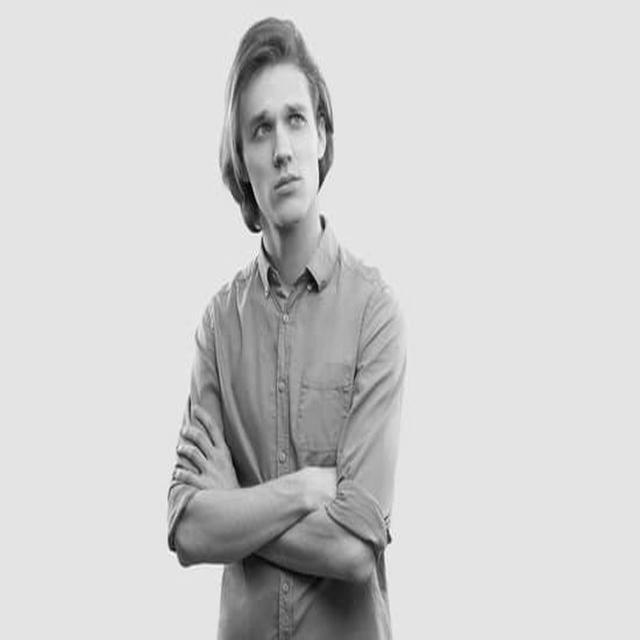Sadness: (244, 64, 320, 228)
